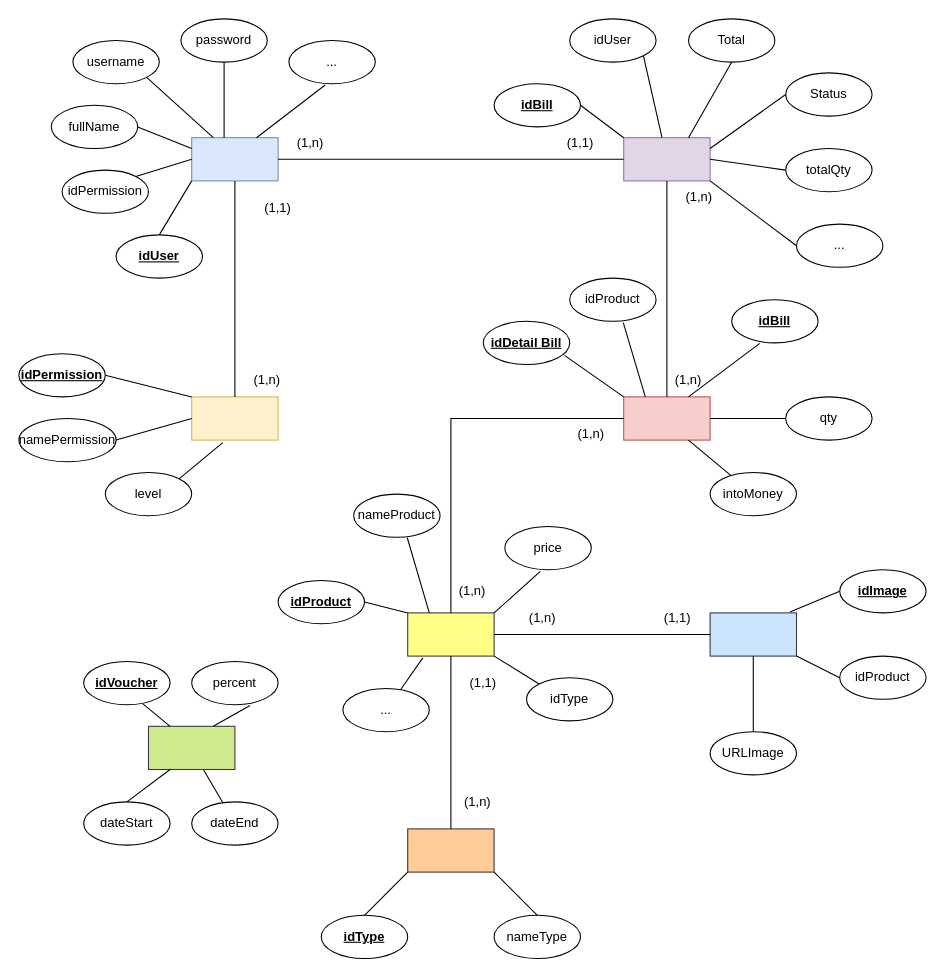
Some shapes in this 945 by 977 pixel diagram are drawn without their labels. The centre of each missing label's shape, as x and y in pixels:
Bill: (x=666, y=159)
Detail Bill: (x=666, y=418)
Image Product: (x=752, y=634)
Permission: (x=234, y=418)
Product: (x=450, y=634)
Types: (x=450, y=850)
User: (x=234, y=159)
Voucher: (x=191, y=747)
